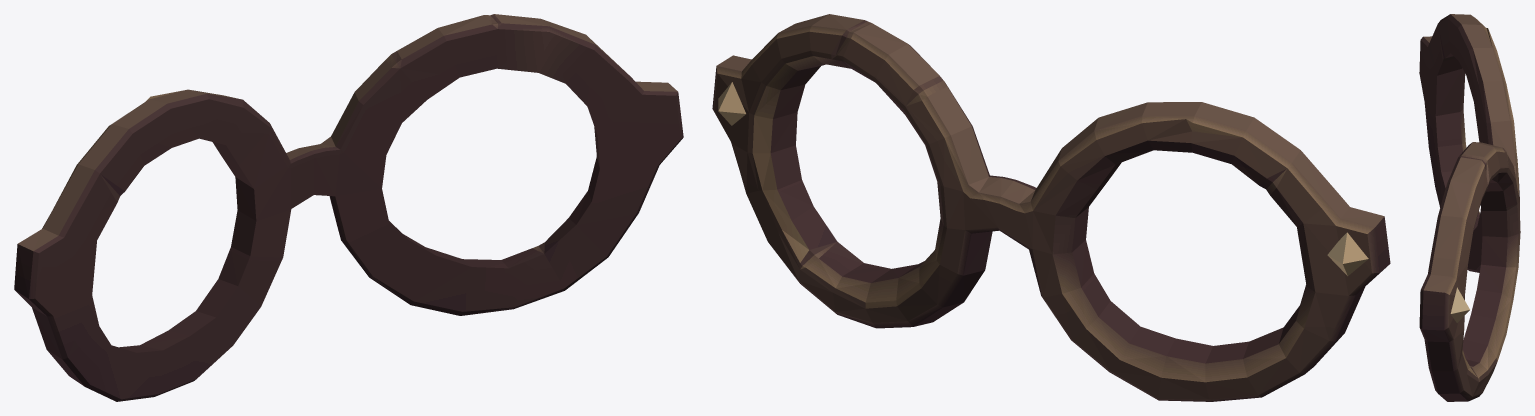
The model's file is CharSkyKid_Face_AP28RoundGlasses.glb.
The picture shows the model from 3 angles, left to right: view 1: azimuth 30°, elevation 25°; view 2: azimuth 150°, elevation 25°; view 3: azimuth 270°, elevation 25°; orthographic projection. The views are drawn at different scales.
Visible parts, largest first — view 1: CharSkyKid_Face_AP28RoundGlasses; view 2: CharSkyKid_Face_AP28RoundGlasses; view 3: CharSkyKid_Face_AP28RoundGlasses.
Boxes of the visible parts, bbox=[...] form: CharSkyKid_Face_AP28RoundGlasses: bbox=[14, 14, 683, 401]; CharSkyKid_Face_AP28RoundGlasses: bbox=[712, 14, 1390, 401]; CharSkyKid_Face_AP28RoundGlasses: bbox=[1419, 14, 1520, 401].
Bounding box in the file's own units: 2.34 × 0.9809 × 0.3825.
Materials: 1 (1 with a texture image).
